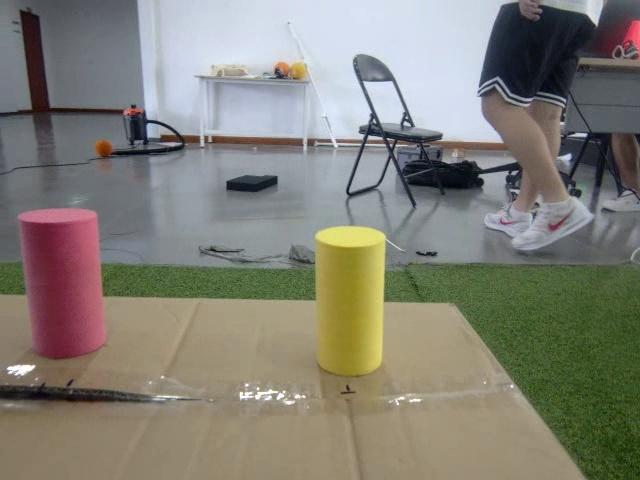red_cylinder: (18, 208, 112, 358)
yellow_cylinder: (316, 225, 385, 376)
